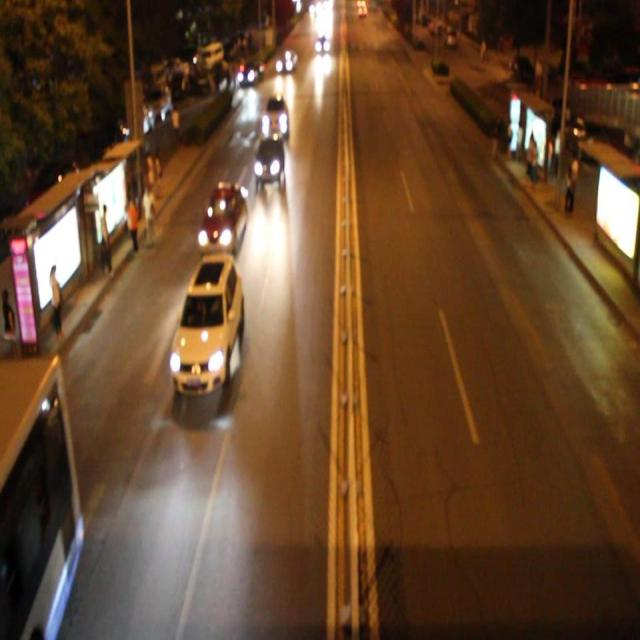car: (171, 253, 245, 391), (199, 179, 248, 255), (254, 134, 284, 184), (262, 94, 290, 141)
van: (1, 352, 85, 640)
